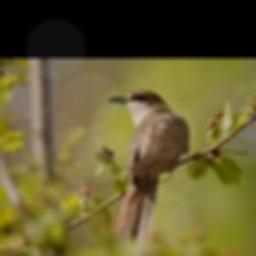Cuckoo: (99, 88, 190, 256)
